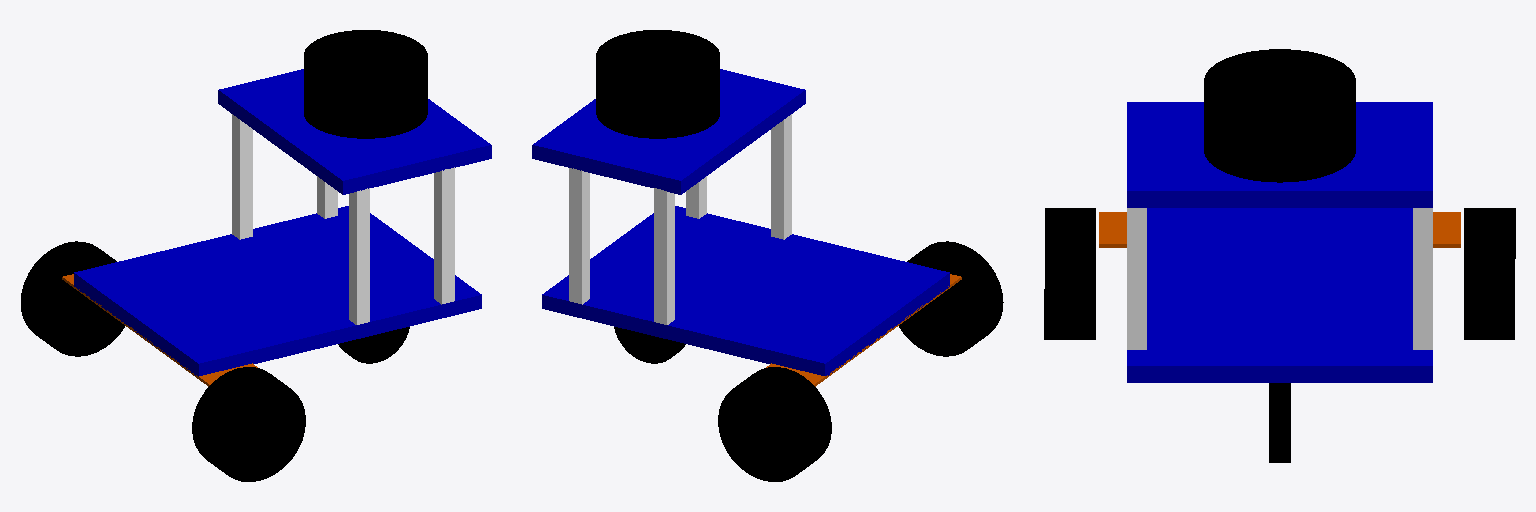
URDF robot description (linorobot):
<?xml version="1.0"?>
  <robot name="linorobot">

   <link name="base_link">
     <visual>
       <geometry>
         <box size="0.21 0.16 0.01"/>
       </geometry>
       <origin rpy="0 0 0" xyz="0.0 0.00 0.065"/>
       <material name="blue">
         <color rgba="0 0 .8 1"/>
       </material>
     </visual>
   </link>

   <link name="perception_deck">
     <visual>
       <geometry>
         <box size="0.11 0.16 0.01"/>
       </geometry>
       <origin rpy="0 0 0" xyz="0.057 0 0.1695"/>
       <material name="blue">
         <color rgba="0 0 .8 1"/>
       </material>
     </visual>
   </link>


   <link name="wheel_left">
     <visual>
       <geometry>
         <cylinder length="0.027" radius="0.0345"/>
       </geometry>
       <origin rpy="1.57 0 0" xyz="-0.085 0.11 0.0345"/>
       <material name="black">
         <color rgba="0 0 0 1"/>
       </material>
     </visual>
   </link>

   <link name="wheel_right">
     <visual>
       <geometry>
         <cylinder length="0.027" radius="0.0345"/>
       </geometry>
       <origin rpy="1.57 0 0" xyz="-0.085 -0.11 0.0345"/>
       <material name="black">
         <color rgba="0 0 0 1"/>
       </material>
     </visual>
   </link>

   <link name="caster_wheel">
     <visual>
       <geometry>
         <cylinder length="0.012" radius="0.025"/>
       </geometry>
       <origin rpy="1.57 0 0" xyz="0.07 0.00 0.025"/>
       <material name="black">
         <color rgba="0 0 0 1"/>
       </material>
     </visual>
   </link>

   <link name="wheel_track">
     <visual>
       <geometry>
         <box size="0.04 0.19 0.002"/>
       </geometry>
       <origin rpy="0 0 0" xyz="-0.085 0.0 0.06"/>
       <material name="white"/>
     </visual>
   </link>

   <link name="laser">
     <visual>
       <geometry>
         <cylinder length="0.04" radius="0.04"/>
       </geometry>
       <material name="black"/>
     </visual>
   </link>

   <link name="left_pole_one">
     <visual>
       <geometry>
         <box size="0.01 0.01 0.095"/>
       </geometry>
       <origin rpy="0 0 0" xyz="0.017 0.075 0.1175"/>
       <material name="silver">
         <color rgba="192 192 192 0.6"/>
       </material>
     </visual>
   </link>

   <link name="left_pole_two">
     <visual>
       <geometry>
         <box size="0.01 0.01 0.095"/>
       </geometry>
       <origin rpy="0 0 0" xyz="0.08 0.075 0.1175"/>
       <material name="silver">
         <color rgba="192 192 192 0.6"/>
       </material>
     </visual>
   </link>

   <link name="right_pole_one">
     <visual>
       <geometry>
         <box size="0.01 0.01 0.095"/>
       </geometry>
       <origin rpy="0 0 0" xyz="0.017 -0.075 0.1175"/>
       <material name="silver">
         <color rgba="192 192 192 0.6"/>
       </material>
     </visual>
   </link>

   <link name="right_pole_two">
     <visual>
       <geometry>
         <box size="0.01 0.01 0.095"/>
       </geometry>
       <origin rpy="0 0 0" xyz="0.08 -0.075 0.1175"/>
       <material name="silver">
         <color rgba="192 192 192 0.6"/>
       </material>
     </visual>
   </link>

   <joint name="base_to_wheel_left" type="fixed">
     <parent link="base_link"/>
     <child link="wheel_left"/>
     <origin xyz="0 0 0"/>
   </joint>

   <joint name="base_to_wheel_right" type="fixed">
     <parent link="base_link"/>
     <child link="wheel_right"/>
     <origin xyz="0 0 0"/>
   </joint>

   <joint name="base_to_wheel_track" type="fixed">
     <parent link="base_link"/>
     <child link="wheel_track"/>
     <origin xyz="0 0 0"/>
   </joint>

   <joint name="base_to_caster_wheel" type="fixed">
     <parent link="base_link"/>
     <child link="caster_wheel"/>
     <origin xyz="0 0 0"/>
   </joint>

   <joint name="base_to_laser" type="fixed">
     <parent link="base_link"/>
     <child link="laser"/>
     <origin xyz="0.065 0.0 0.1960"/>
   </joint>

   <joint name="base_to_left_pole_one" type="fixed">
     <parent link="base_link"/>
     <child link="left_pole_one"/>
     <origin xyz="0 0 0"/>
   </joint>

   <joint name="base_to_left_pole_two" type="fixed">
     <parent link="base_link"/>
     <child link="left_pole_two"/>
     <origin xyz="0 0 0"/>
   </joint>

   <joint name="base_to_right_pole_one" type="fixed">
     <parent link="base_link"/>
     <child link="right_pole_one"/>
     <origin xyz="0 0 0"/>
   </joint>

   <joint name="base_to_right_pole_two" type="fixed">
     <parent link="base_link"/>
     <child link="right_pole_two"/>
     <origin xyz="0 0 0"/>
   </joint>

   <joint name="base_to_perception_deck" type="fixed">
     <parent link="base_link"/>
     <child link="perception_deck"/>
     <origin xyz="0 0 0"/>
   </joint>
 </robot>

--- Render facts (derived) ---
The picture shows the robot from 3 angles, left to right: view 1: azimuth 30°, elevation 25°; view 2: azimuth 150°, elevation 25°; view 3: azimuth 270°, elevation 25°; orthographic projection.
Model linorobot with 11 links and 10 joints (10 fixed), rooted at base_link, posed all joints at 0.
Visible links, largest first — view 1: base_link, perception_deck, laser, wheel_right, wheel_left, right_pole_two, right_pole_one, left_pole_one, caster_wheel, left_pole_two, wheel_track; view 2: base_link, perception_deck, laser, wheel_left, wheel_right, left_pole_one, left_pole_two, right_pole_one, caster_wheel, right_pole_two, wheel_track; view 3: base_link, perception_deck, laser, wheel_left, wheel_right, left_pole_two, right_pole_two, wheel_track, caster_wheel.
Link boxes in pixels (x1,y1,x2,y2): base_link: (74, 206, 481, 376); perception_deck: (218, 69, 491, 194); laser: (304, 30, 427, 138); wheel_right: (192, 367, 305, 481); wheel_left: (21, 241, 124, 356); right_pole_two: (434, 167, 454, 304); right_pole_one: (349, 188, 369, 324); left_pole_one: (232, 114, 252, 239); caster_wheel: (338, 327, 409, 363); left_pole_two: (317, 176, 337, 218); wheel_track: (62, 274, 257, 386); base_link: (542, 206, 949, 375); perception_deck: (532, 69, 805, 194); laser: (596, 30, 719, 138); wheel_left: (718, 367, 831, 481); wheel_right: (899, 241, 1003, 356); left_pole_one: (654, 188, 674, 324); left_pole_two: (569, 168, 589, 304); right_pole_one: (771, 114, 791, 239); caster_wheel: (614, 327, 685, 363); right_pole_two: (686, 176, 706, 218); wheel_track: (766, 274, 961, 386); base_link: (1127, 208, 1432, 382); perception_deck: (1127, 102, 1432, 207); laser: (1204, 49, 1355, 182); wheel_left: (1464, 208, 1515, 339); wheel_right: (1044, 208, 1095, 339); left_pole_two: (1413, 208, 1432, 349); right_pole_two: (1127, 208, 1146, 349); wheel_track: (1099, 212, 1460, 247); caster_wheel: (1269, 383, 1290, 462).
Size in the robot's own frame: 0.2315 by 0.2471 by 0.216 metres.
Geometry: primitives only (box / cylinder / sphere), no mesh files.
